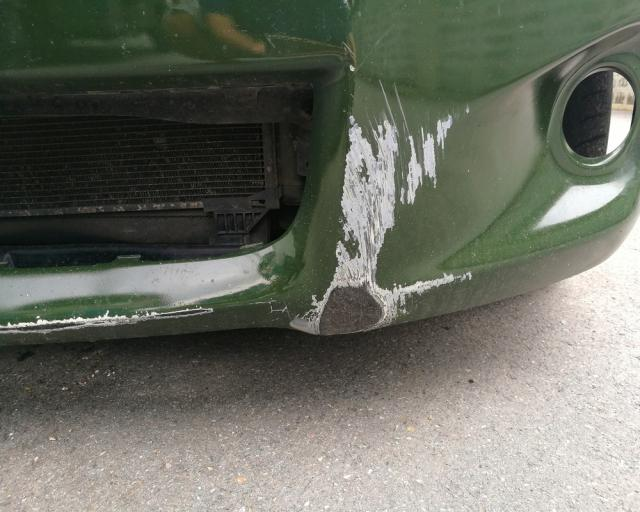scratch: (269, 77, 476, 337), (0, 300, 218, 339)
